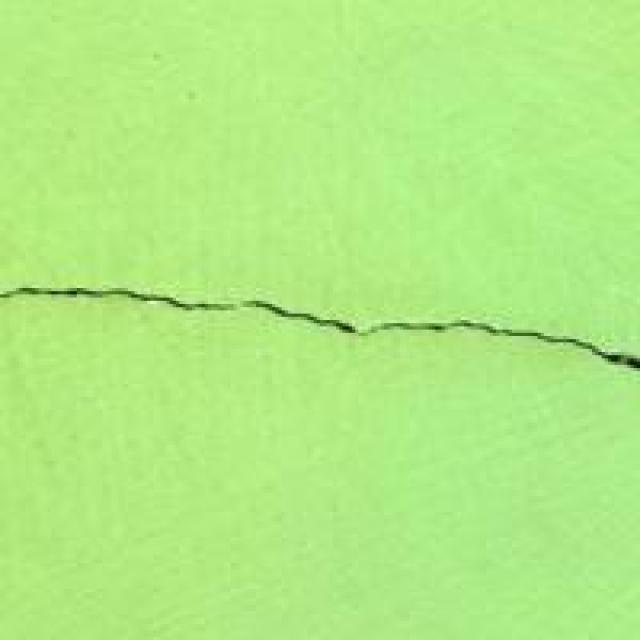crack: (0, 180, 637, 454)
